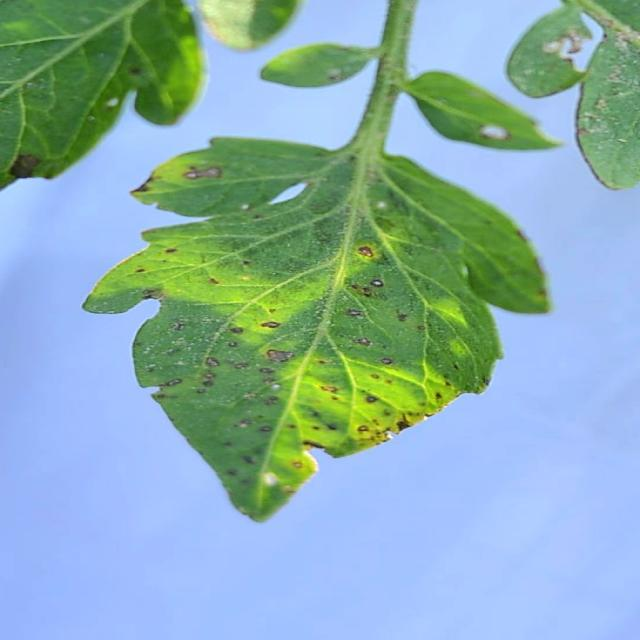infected: (117, 161, 548, 524), (535, 8, 633, 88), (446, 108, 537, 148), (0, 142, 65, 184)
